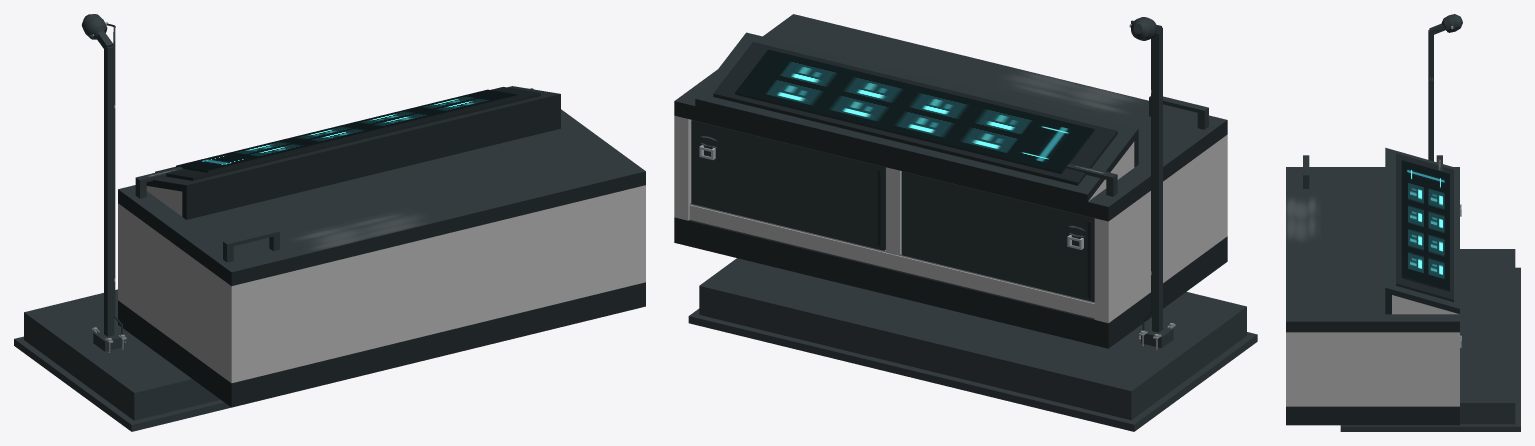
The model's file is monitor-south.glb.
3 renders of one model, left to right at view 1: azimuth 30°, elevation 25°; view 2: azimuth 150°, elevation 25°; view 3: azimuth 270°, elevation 25°, orthographic. The views are drawn at different scales.
Visible parts, largest first — view 1: back_wall, service_worktop, deck_plinth, side_south, rear_service_cover, deck-context-slab, operating_display, instrument_wedge, perimeter-infill-0, column, display_bezel, perimeter-infill-3 (+2 smaller); view 2: service_worktop, deck-context-slab, operating_display, service_panel_1, service_panel_0, deck_plinth, perimeter-infill-2, side_south, instrument_wedge, display_bezel, service_sill, window-shelf-2 (+7 smaller); view 3: service_worktop, side_north, deck-context-slab, operating_display, deck_plinth, instrument_wedge, display_bezel, window-shelf-1, perimeter-infill-1, window-shelf-2, instrument_cheek_north, column (+2 smaller).
Part boxes in pixels (x1,y1,x2,y2): back_wall: (230, 185, 645, 383); service_worktop: (118, 88, 645, 286); deck_plinth: (118, 282, 645, 407); side_south: (118, 203, 230, 381); rear_service_cover: (182, 101, 560, 219); deck-context-slab: (25, 289, 191, 392); operating_display: (176, 89, 518, 172); instrument_wedge: (146, 86, 560, 192); perimeter-infill-0: (24, 312, 134, 420); column: (104, 46, 114, 336); display_bezel: (155, 87, 540, 180); perimeter-infill-3: (134, 379, 220, 420); service_worktop: (674, 14, 1227, 221); deck-context-slab: (700, 258, 1245, 390); operating_display: (735, 49, 1094, 174); service_panel_1: (691, 120, 885, 250); service_panel_0: (901, 171, 1094, 301); deck_plinth: (674, 217, 1227, 348); perimeter-infill-2: (699, 286, 1130, 419); side_south: (1094, 135, 1226, 323); instrument_wedge: (695, 32, 1138, 201); display_bezel: (713, 42, 1117, 185); service_sill: (689, 205, 1094, 318); window-shelf-2: (700, 316, 1126, 428); service_worktop: (1286, 167, 1459, 332); side_north: (1288, 332, 1459, 406); deck-context-slab: (1460, 249, 1514, 402); operating_display: (1401, 160, 1449, 291); deck_plinth: (1286, 406, 1459, 425); instrument_wedge: (1385, 147, 1459, 313); display_bezel: (1396, 153, 1453, 302); window-shelf-1: (1340, 422, 1520, 431); perimeter-infill-1: (1460, 403, 1515, 424); window-shelf-2: (1515, 271, 1520, 422); instrument_cheek_north: (1392, 295, 1459, 314); column: (1428, 30, 1433, 161).
Size of the model in its own units: 2.89 by 2.09 by 1.6.
1 material, 1 textured.
